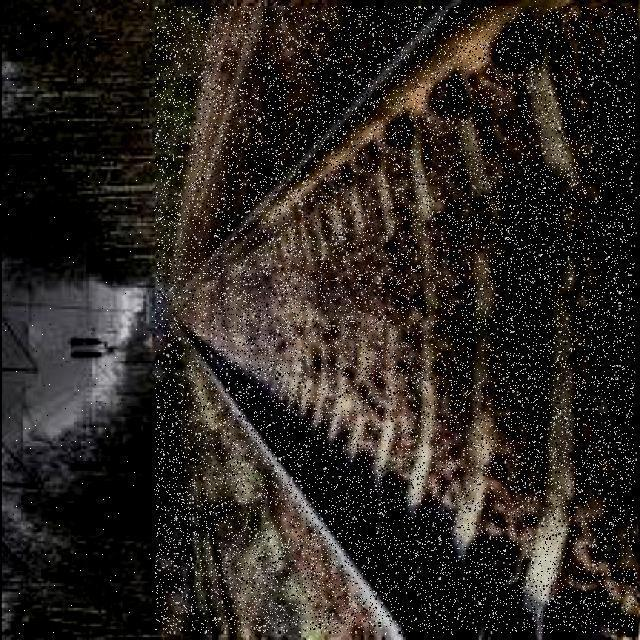rail: (155, 7, 635, 633)
